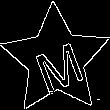M_N: (26, 28, 86, 91)
